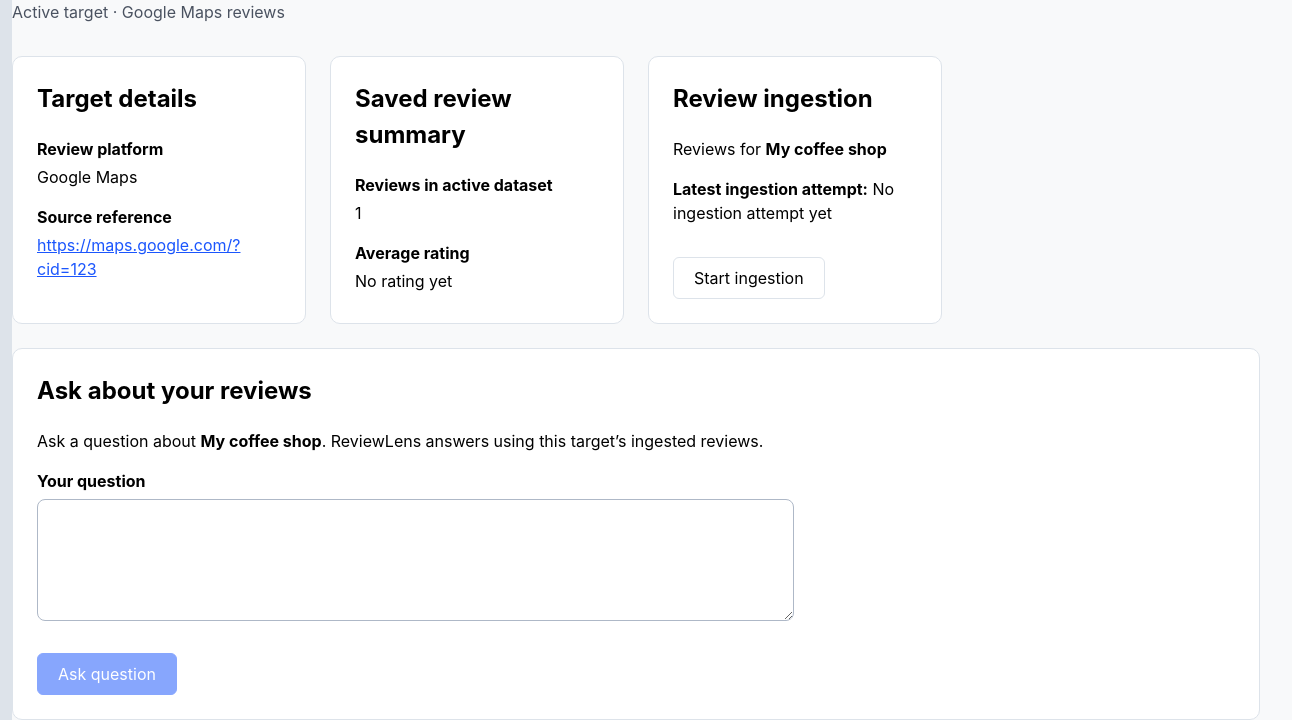
Test case: TargetWorkspacePage › does not guess review availability while the saved summary refreshes
This screenshot has width=1292, height=720.
(page scrolled)
Expected: the text "Reviews in active dataset" is shown, left=355, top=175, right=553, bottom=195
In the text box labelled "Your question": (416, 560) left=37, top=499, right=794, bottom=621, type "Can I ask this?"
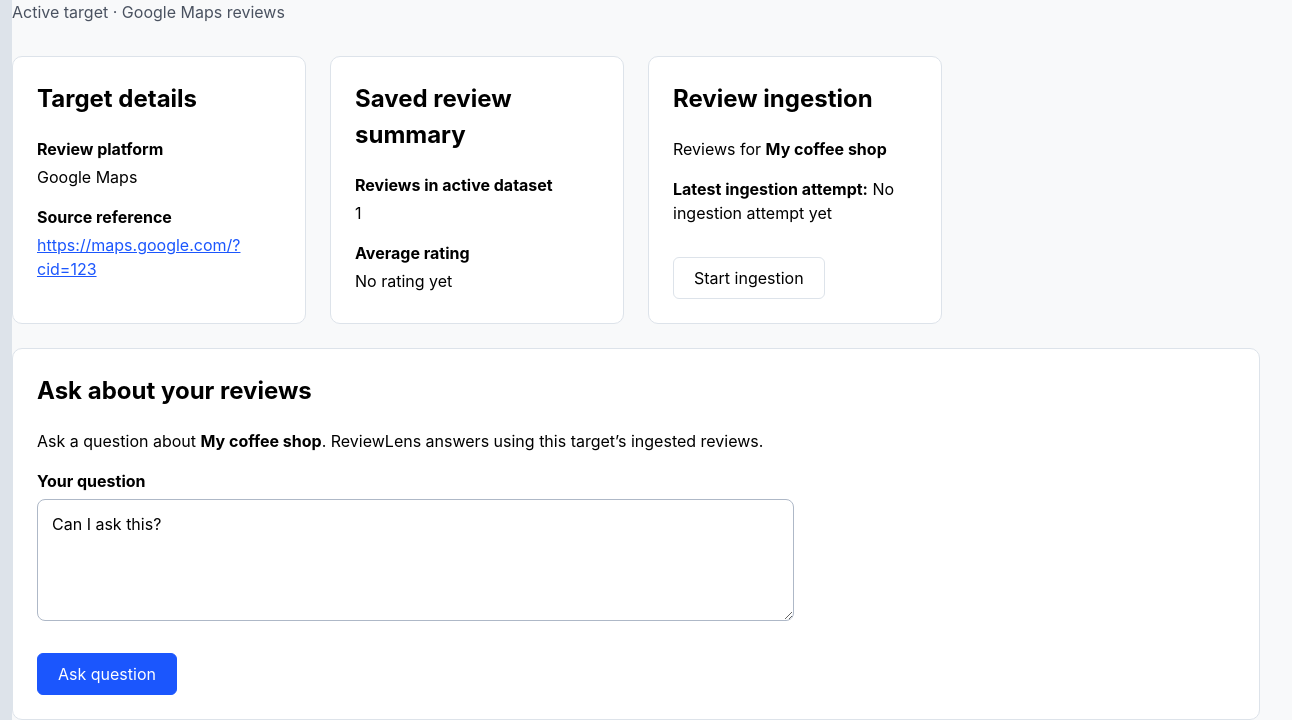
Click the button "Start ingestion": (749, 278) left=673, top=257, right=825, bottom=299
(page scrolled)
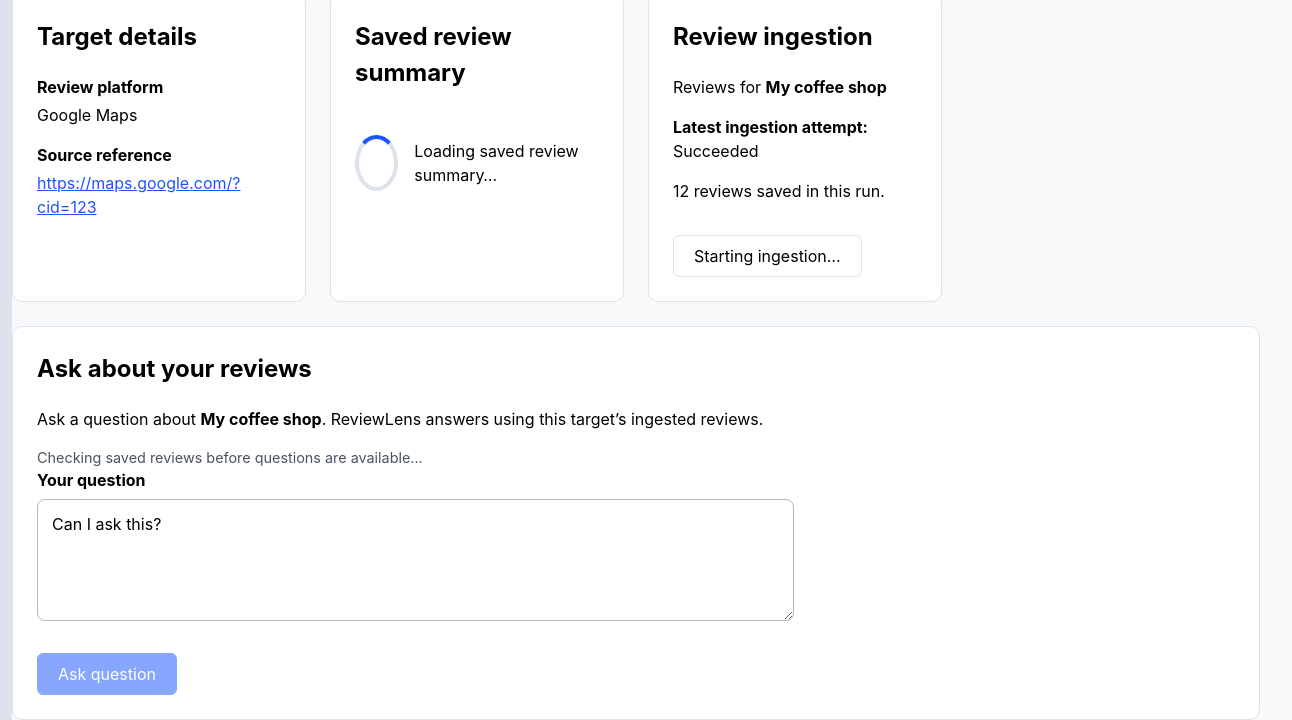
Expected: the element named "Review Q&A" does not show "There are no saved reviews yet", left=12, top=326, right=1260, bottom=719
Expected: the element named "Review Q&A" shows "Checking saved reviews", left=37, top=449, right=423, bottom=466
Expected: the button "Ask question" is disabled, left=37, top=653, right=177, bottom=695
Submit the form "Ask question", box left=37, top=468, right=794, bottom=695
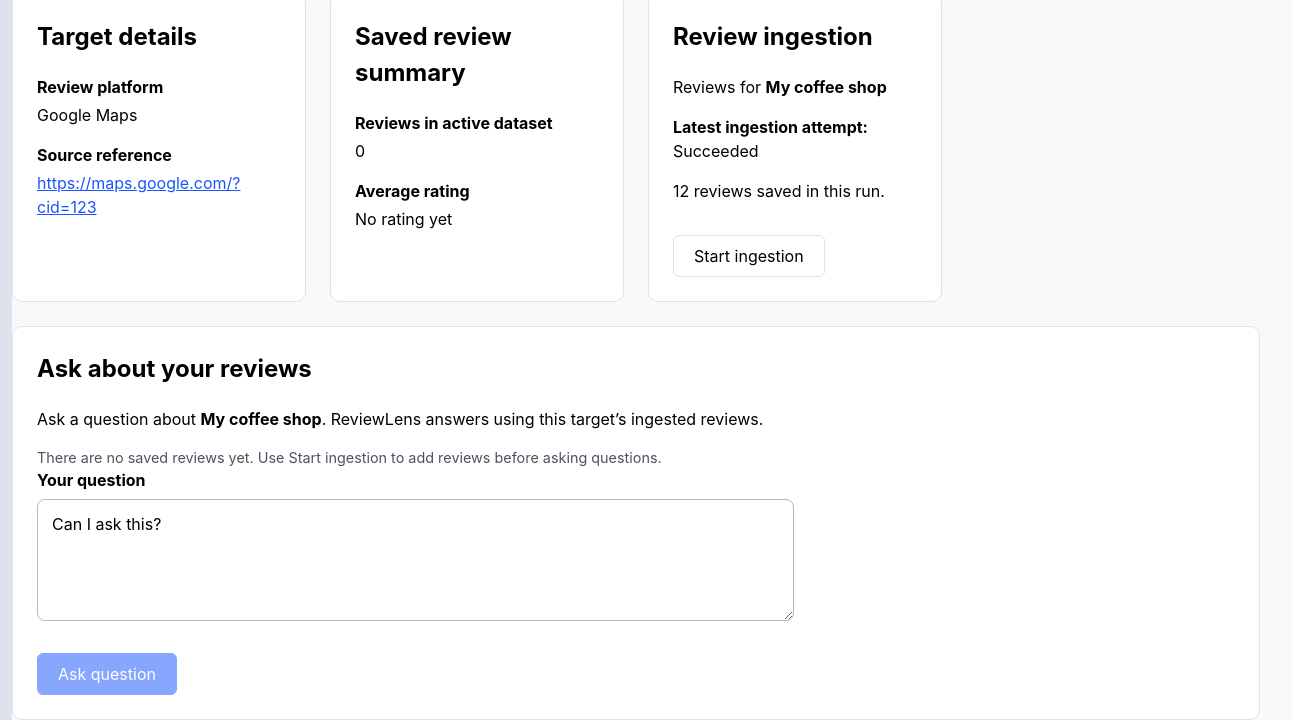
Expected: the button "Ask question" is disabled, left=37, top=653, right=177, bottom=695
Expected: the element named "Review Q&A" shows "There are no saved reviews yet", left=37, top=449, right=662, bottom=466
